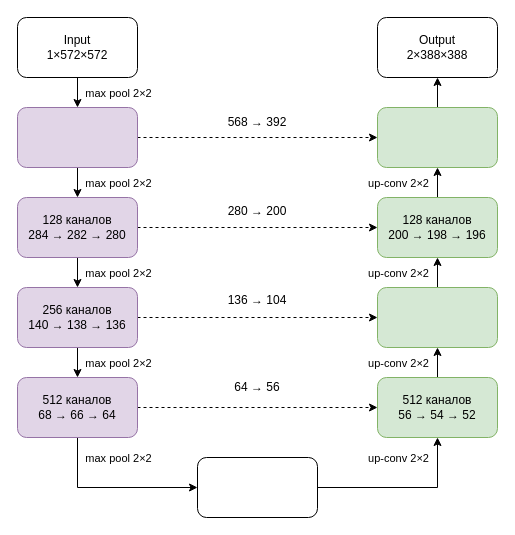
The diagram is 515 pixels wide and 535 high, and some of its shapes have lost their labels. Each missing label, with the box of its shape:
1024 канала 32 → 30 → 28: (196, 456, 318, 518)
256 каналов 104 → 102 → 100: (376, 286, 498, 348)
64 канала 392 → 390 → 388: (376, 106, 498, 168)
64 канала 572 → 570 → 568: (16, 106, 138, 168)
